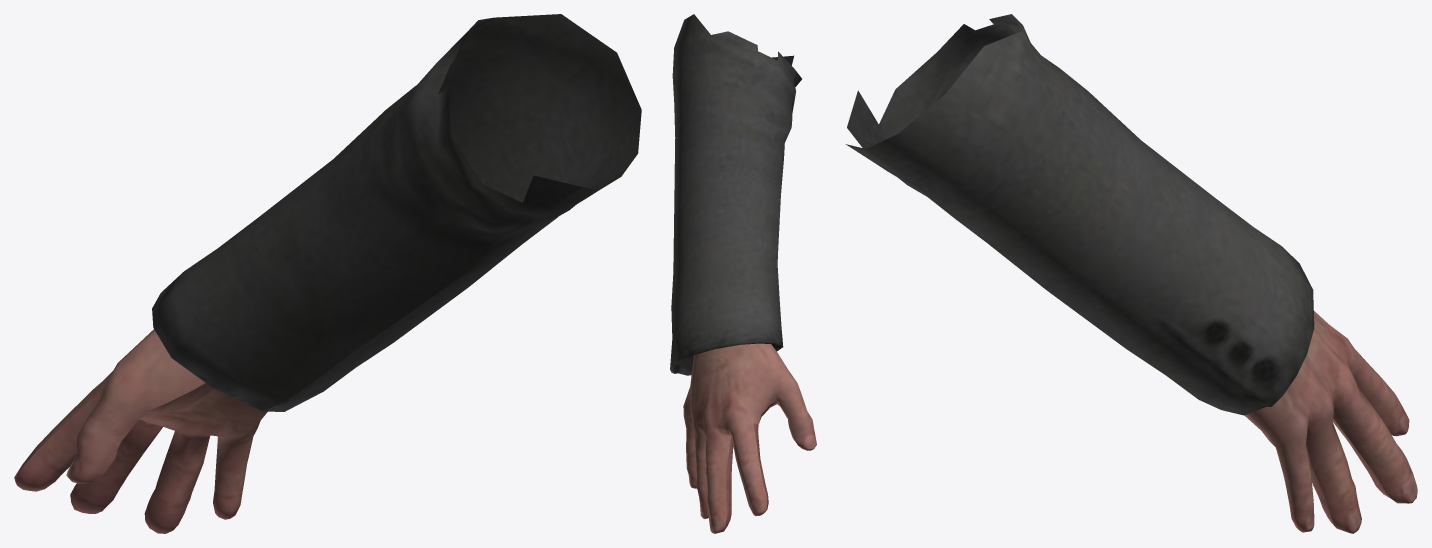
Rendered from Alumno2SubRightArm.obj.
The picture shows the model from 3 angles, left to right: view 1: azimuth 30°, elevation 25°; view 2: azimuth 150°, elevation 25°; view 3: azimuth 270°, elevation 25°; orthographic projection. The views are drawn at different scales.
Visible parts, largest first — view 1: Alumno2SubRightArm; view 2: Alumno2SubRightArm; view 3: Alumno2SubRightArm.
Part boxes in pixels (x1,y1,x2,y2): Alumno2SubRightArm: (14,14,641,533); Alumno2SubRightArm: (670,14,816,533); Alumno2SubRightArm: (845,14,1417,533).
Bounding box in the file's own units: 0.3506 × 0.5362 × 0.4765.
1 material, 1 textured.
